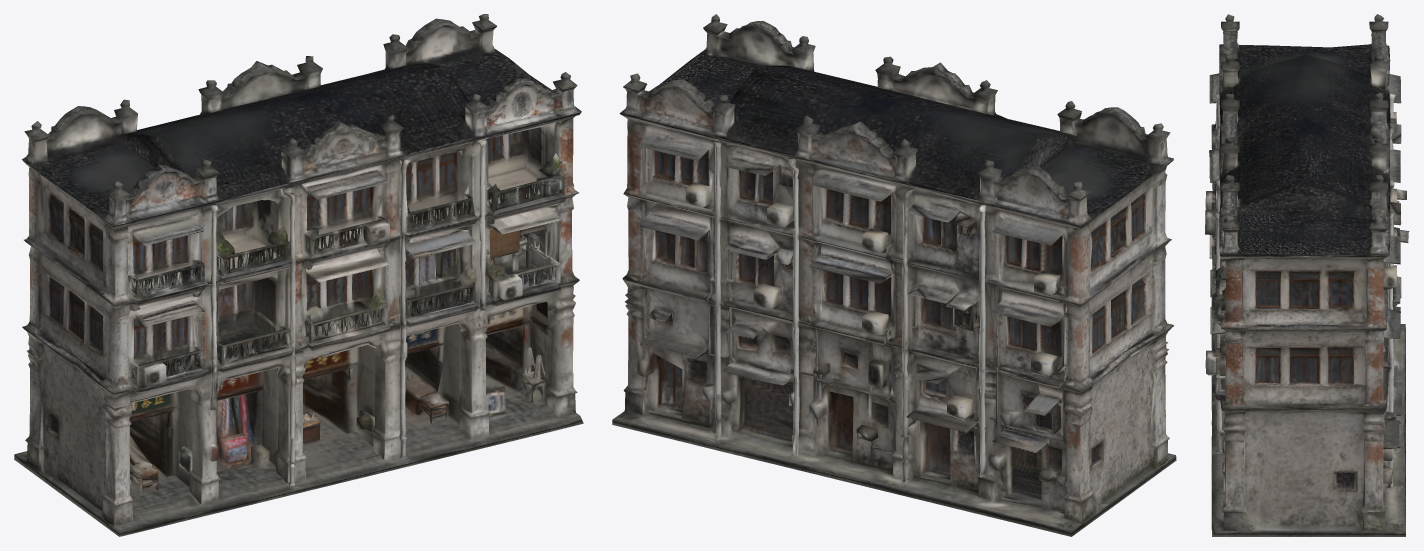
Rendered from historic_facade_57b.glb.
3 renders of one model, left to right at view 1: azimuth 30°, elevation 25°; view 2: azimuth 150°, elevation 25°; view 3: azimuth 270°, elevation 25°, orthographic. The views are drawn at different scales.
Parts seen in each view (by area): view 1: tripo_node_5b35ead9-33b0-49d1-b2e8-048ae301b0d4; view 2: tripo_node_5b35ead9-33b0-49d1-b2e8-048ae301b0d4; view 3: tripo_node_5b35ead9-33b0-49d1-b2e8-048ae301b0d4.
Boxes of the visible parts, box(x1,y1,x2,y2) form: tripo_node_5b35ead9-33b0-49d1-b2e8-048ae301b0d4: box(14, 14, 583, 536); tripo_node_5b35ead9-33b0-49d1-b2e8-048ae301b0d4: box(612, 14, 1176, 536); tripo_node_5b35ead9-33b0-49d1-b2e8-048ae301b0d4: box(1205, 14, 1409, 536).
Bounding box in the file's own units: 0.9797 × 0.6984 × 0.403.
1 material, 1 textured.
